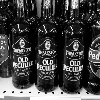beer: (11, 1, 33, 93)
